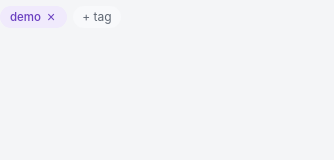
it: RunTags › shows a + tag pill that opens the box, which closes back into the pill when left empty
Expected: the dropdown labelled "add a tag" is not shown
Click the button with aria-label "add a tag" at (97, 17), box [73,6,121,28]
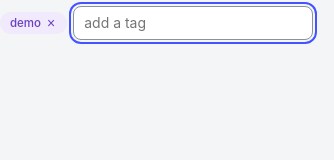
Press Escape
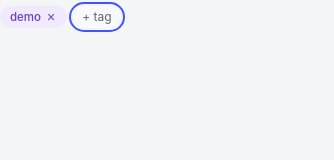
Expected: the dropdown labelled "add a tag" is not shown
Expected: the button with aria-label "add a tag" reads "+ tag", [73,6,121,28]
